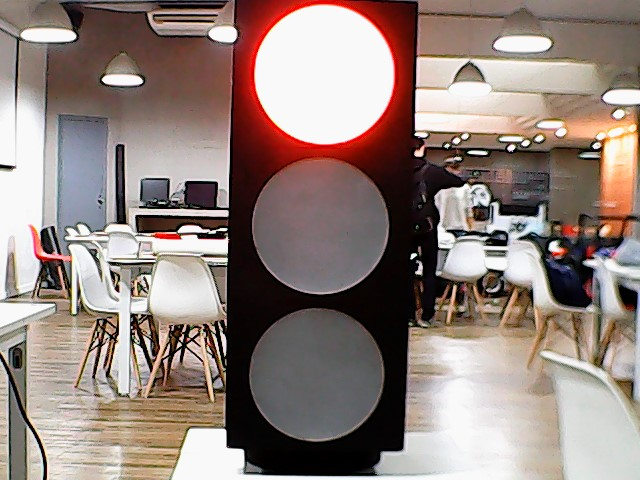vermelho: (224, 1, 424, 478)
